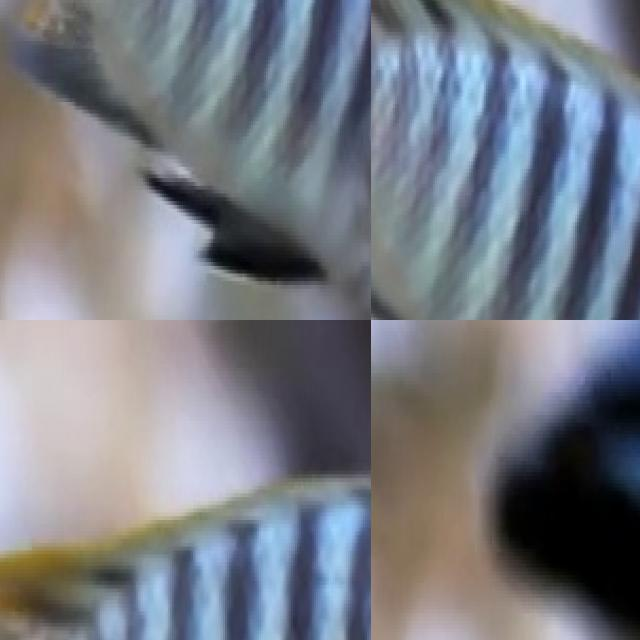fish: (0, 0, 371, 320), (483, 320, 640, 640)
